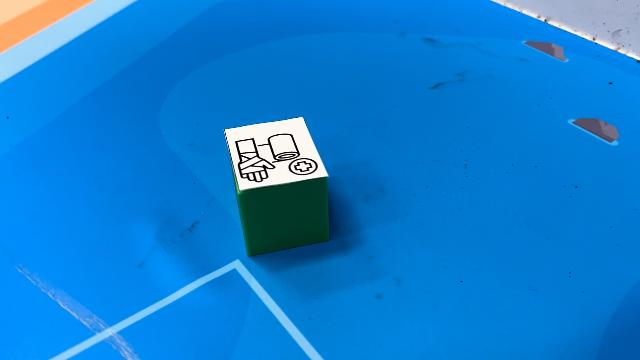bandage: (224, 116, 330, 256)
